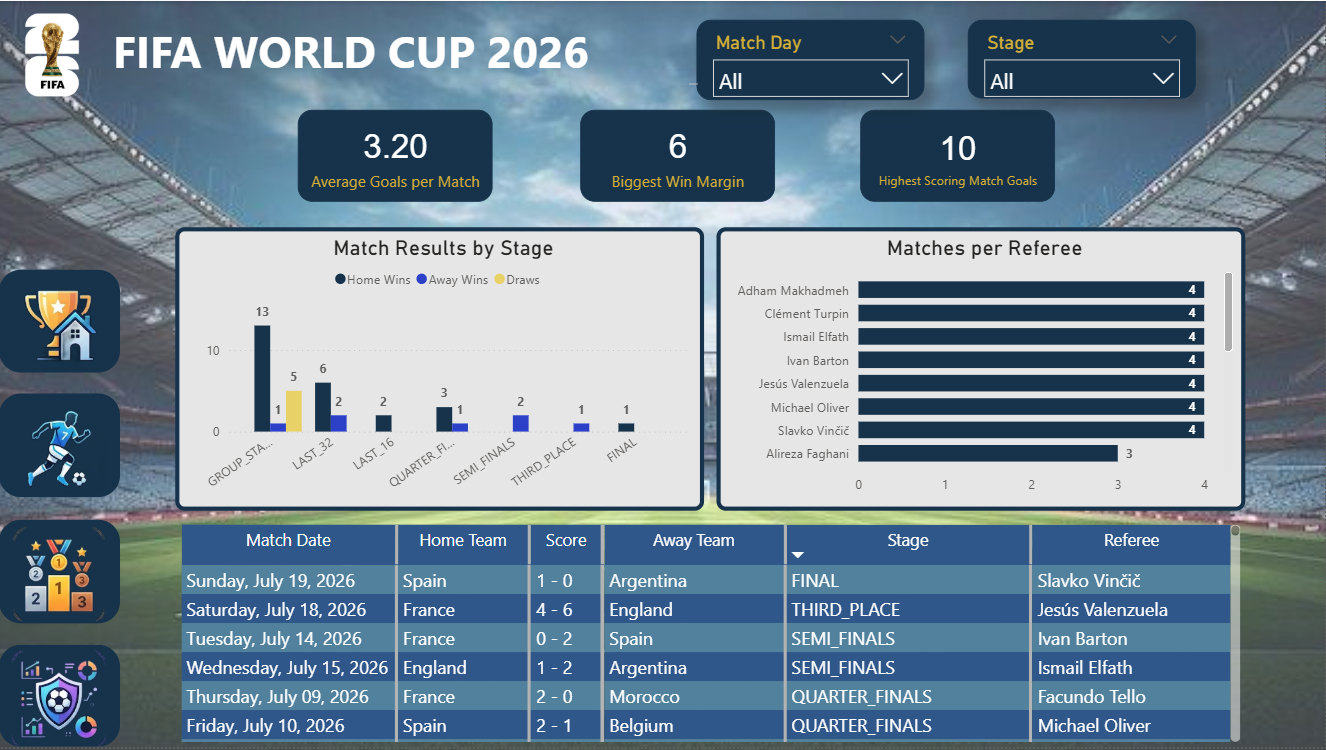

Layout of this report page (visuals, bound fields, positions):
{"tool":"powerbi","page":{"name":"Match Center","canvas":[1280,720],"ordinal":3},"visuals":[{"type":"card","fields":{"Values":["My Measures.Biggest Win Margin"]},"box":[561.2,104.6,188.3,89],"z":0},{"type":"card","fields":{"Values":["My Measures.Highest Scoring Match Goals"]},"box":[830.8,104.6,188.3,89],"z":1000},{"type":"slicer","fields":{"Values":["Dim_Stage.Stage"]},"box":[935.4,18.5,220.3,76.3],"z":2000},{"type":"slicer","fields":{"Values":["Fact_Matches.Match Day"]},"box":[673.2,18.5,220.3,77.5],"z":3000},{"type":"card","fields":{"Values":["My Measures.Average Goals per Match"]},"box":[288,104.6,188.3,89],"z":4000},{"type":"clusteredColumnChart","title":"Match Results by Stage","fields":{"Category":["Dim_Stage.Stage"],"Y":["My Measures.Home Wins","My Measures.Away Wins","My Measures.Draws"]},"box":[169.8,217.8,510,273.2],"z":5000},{"type":"clusteredBarChart","title":"Matches per Referee","fields":{"Category":["Fact_Matches.Referee"],"Y":["CountNonNull(Fact_Matches.Referee)"]},"box":[692.9,217.8,510,273.2],"z":6000},{"type":"tableEx","fields":{"Values":["Fact_Matches.Match Date","Fact_Matches.Home Team","Fact_Matches.Score","Fact_Matches.Away Team","Dim_Stage.Stage","Fact_Matches.Referee"]},"box":[169.8,500.9,1032.6,219.1],"z":7000},{"type":"image","box":[0,379.1,116.9,99.7],"z":8000},{"type":"image","box":[0,621.5,116.9,98.5],"z":9000},{"type":"image","box":[0,259.7,116.9,99],"z":10000},{"type":"image","box":[0,500.9,116.9,99.7],"z":11000},{"type":"image","box":[0,12.1,102.5,79.6],"z":12000},{"type":"textbox","title":" FIFA WORLD CUP 2026","box":[0,18.1,679.2,67.6],"z":13000}]}

Visuals, with their boxes in screenshot pixels (x1, y1, x2, y2), scaled from the page's 1280x720 canvas onto the 1326x750 screenshot:
card - My Measures.Biggest Win Margin: [x1=581, y1=109, x2=776, y2=202]
card - My Measures.Highest Scoring Match Goals: [x1=861, y1=109, x2=1056, y2=202]
slicer - Dim_Stage.Stage: [x1=969, y1=19, x2=1197, y2=99]
slicer - Fact_Matches.Match Day: [x1=697, y1=19, x2=926, y2=100]
card - My Measures.Average Goals per Match: [x1=298, y1=109, x2=493, y2=202]
"Match Results by Stage" clusteredColumnChart: [x1=176, y1=227, x2=704, y2=511]
"Matches per Referee" clusteredBarChart: [x1=718, y1=227, x2=1246, y2=511]
tableEx - Fact_Matches.Match Date x Fact_Matches.Home Team: [x1=176, y1=522, x2=1246, y2=749]
image: [x1=0, y1=395, x2=121, y2=499]
image: [x1=0, y1=647, x2=121, y2=749]
image: [x1=0, y1=271, x2=121, y2=374]
image: [x1=0, y1=522, x2=121, y2=626]
image: [x1=0, y1=13, x2=106, y2=96]
" FIFA WORLD CUP 2026" textbox: [x1=0, y1=19, x2=704, y2=89]
